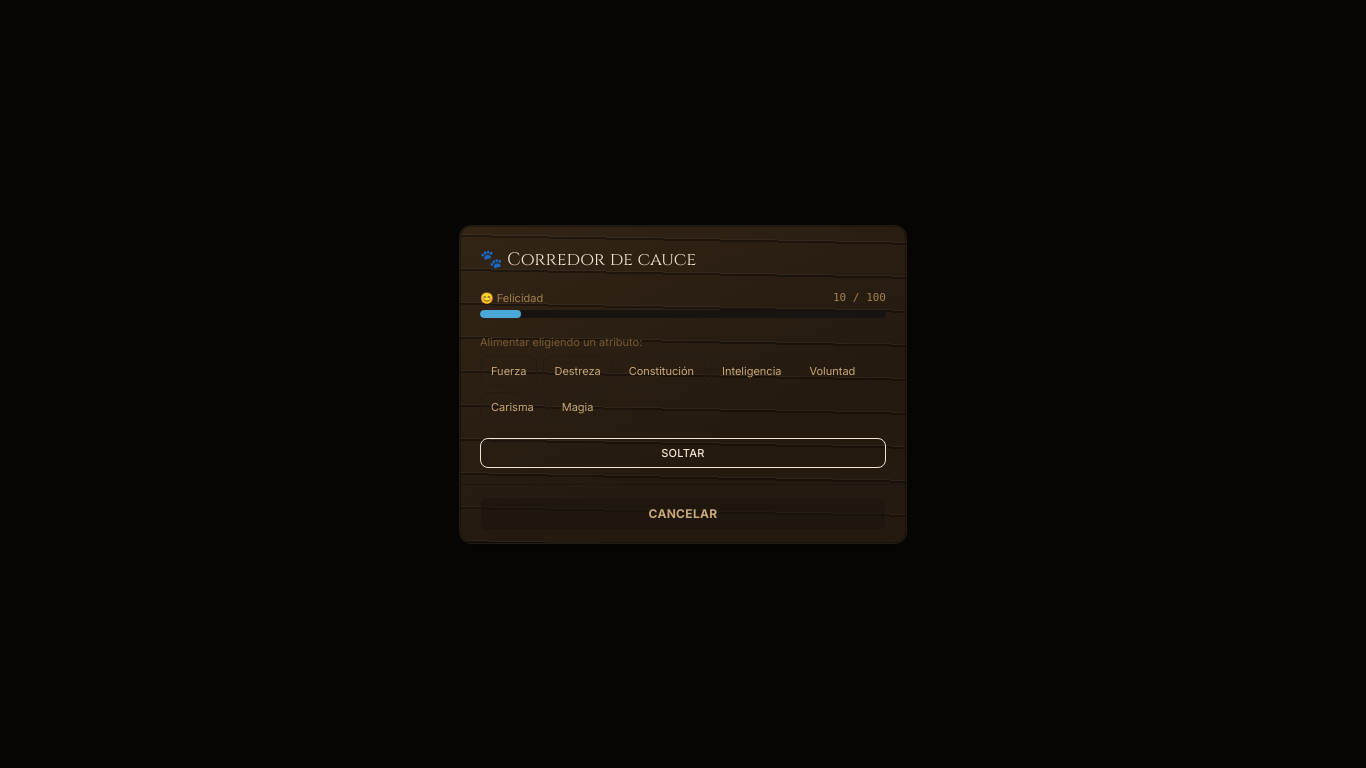
Test: TameoModal — DAD-1, DAD-2 › el veredicto y la Felicidad llegan al aterrizar; la segunda tirada vuelve a animarse
Click the button "Carisma". click: (512, 406)
box: [480,392,545,422]
Wait 10010 ms
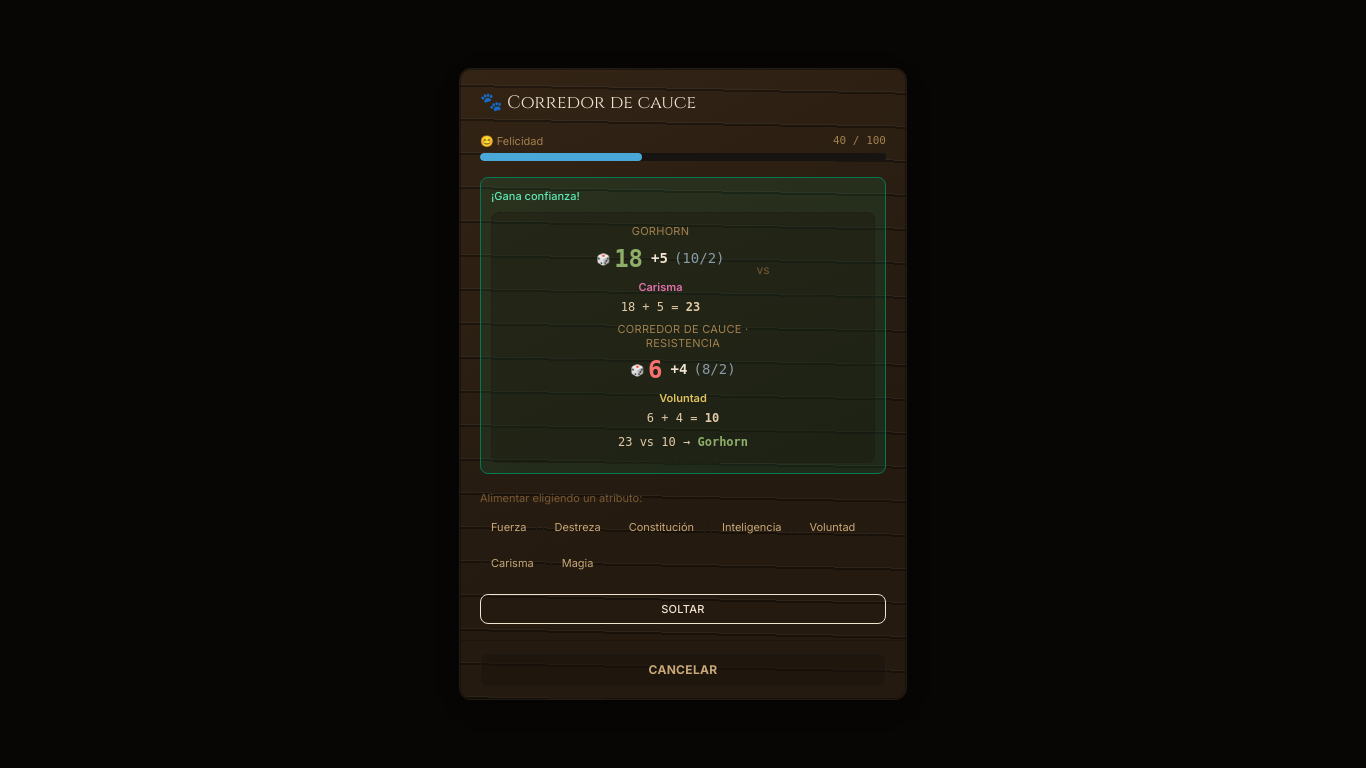
Expected: the 1st text "Gorhorn" is shown, [632,225,689,239]
Expected: the text "¡Gana confianza!" is shown, [491,189,580,203]
Expected: the text "40 / 100" is shown, [833,133,886,149]
Click the button "Carisma". click: (512, 563)
box: [480,548,545,578]
Wait 10010 ms
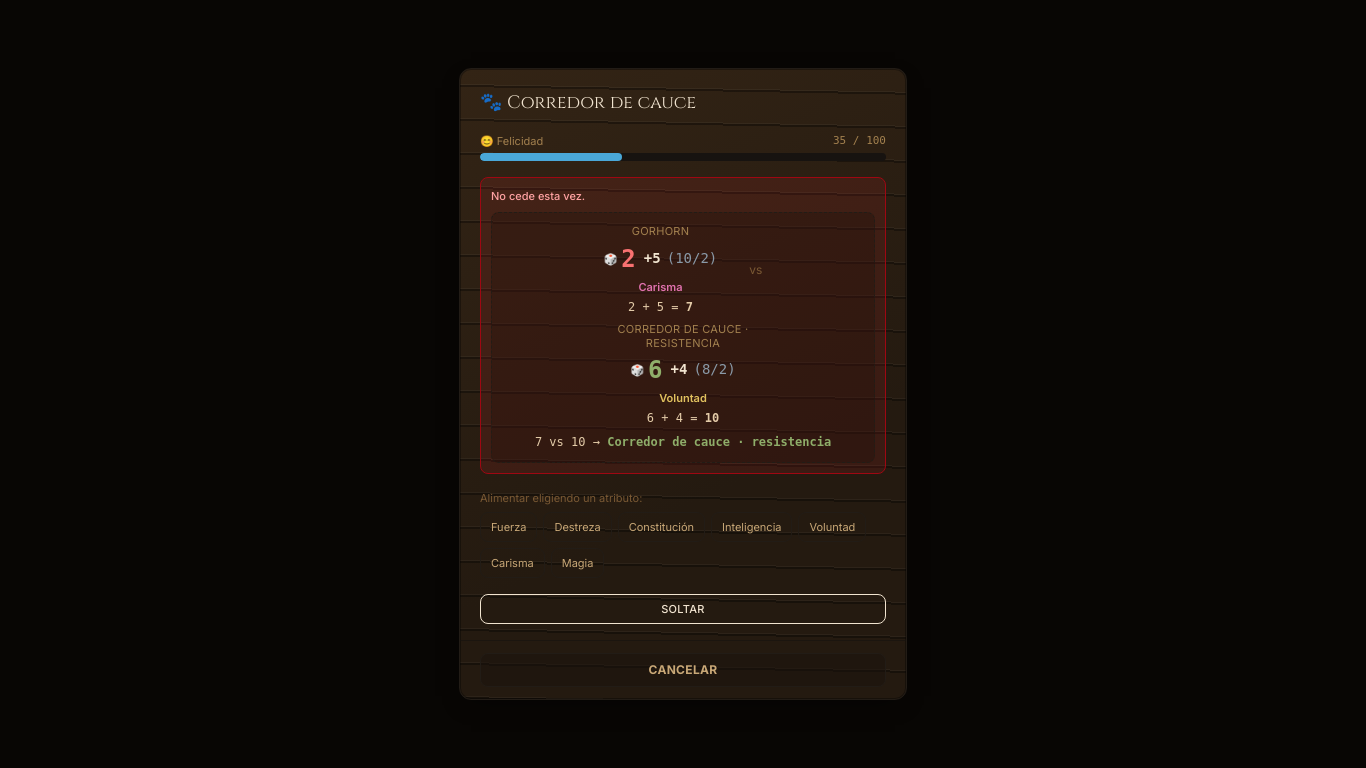
Expected: the text "No cede esta vez." is shown, [491,189,585,203]
Expected: the text "35 / 100" is shown, [833,133,886,149]
